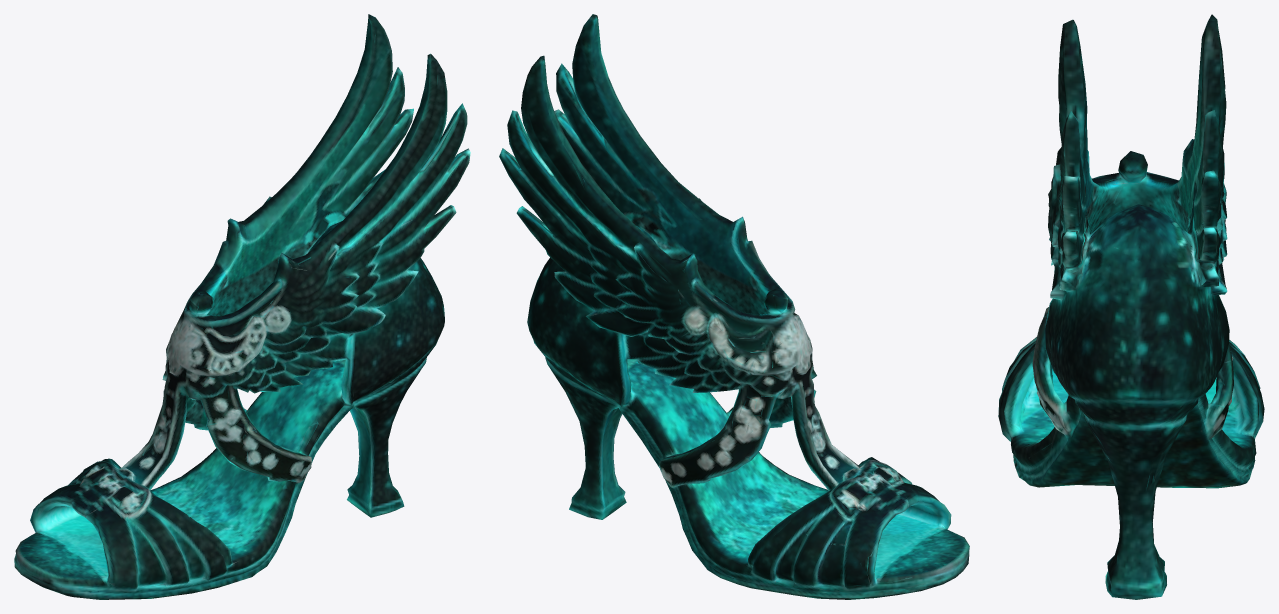
Rendered from hermes.glb.
3 renders of one model, left to right at view 1: azimuth 30°, elevation 25°; view 2: azimuth 150°, elevation 25°; view 3: azimuth 270°, elevation 25°, orthographic. The views are drawn at different scales.
Visible parts, largest first — view 1: Mesh1.0; view 2: Mesh1.0; view 3: Mesh1.0.
Part boxes in pixels (x1,y1,x2,y2): Mesh1.0: (14, 14, 470, 599); Mesh1.0: (499, 14, 969, 599); Mesh1.0: (998, 14, 1264, 599).
Size of the model in its own units: 0.4775 by 0.5 by 0.2048.
1 material, 1 textured.
